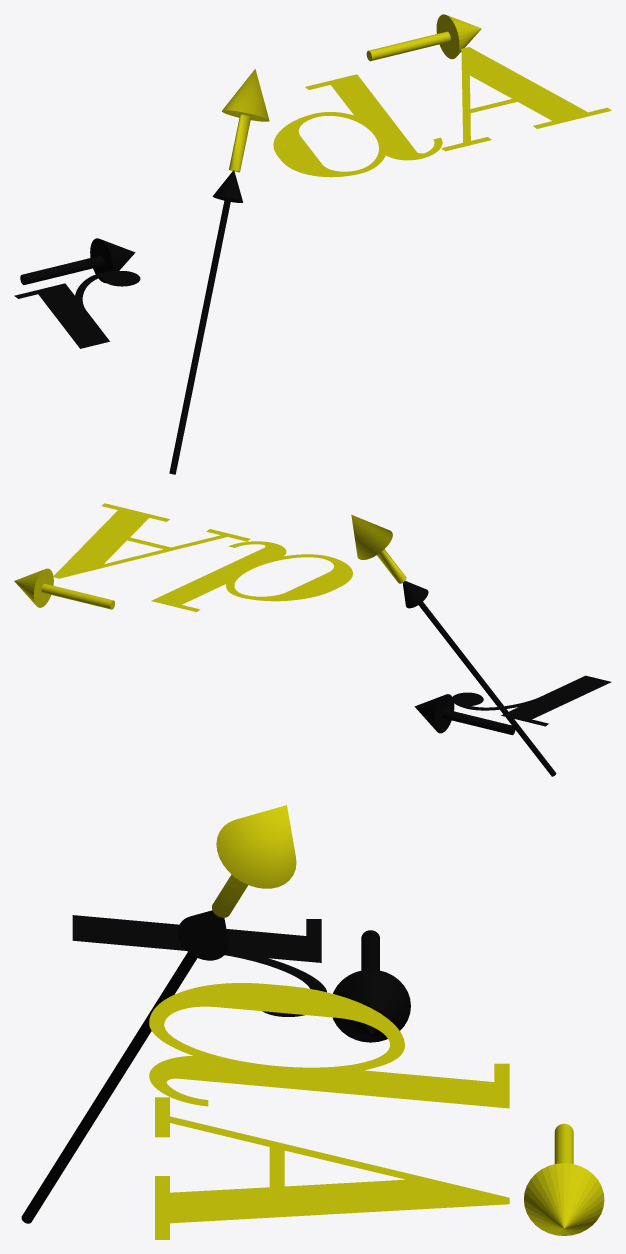
File: vectores.glb
The picture shows the model from 3 angles, top to bottom: view 1: azimuth 30°, elevation 25°; view 2: azimuth 150°, elevation 25°; view 3: azimuth 270°, elevation 25°; orthographic projection. The views are drawn at different scales.
Parts seen in each view (by area): view 1: Cone.001; view 2: Cone.001; view 3: Cone.001.
Boxes of the visible parts, <box> form: Cone.001: <box>14,14,611,474</box>; Cone.001: <box>14,503,611,776</box>; Cone.001: <box>21,805,604,1239</box>.
Size of the model in its own units: 9.03 by 4.89 by 4.68.
